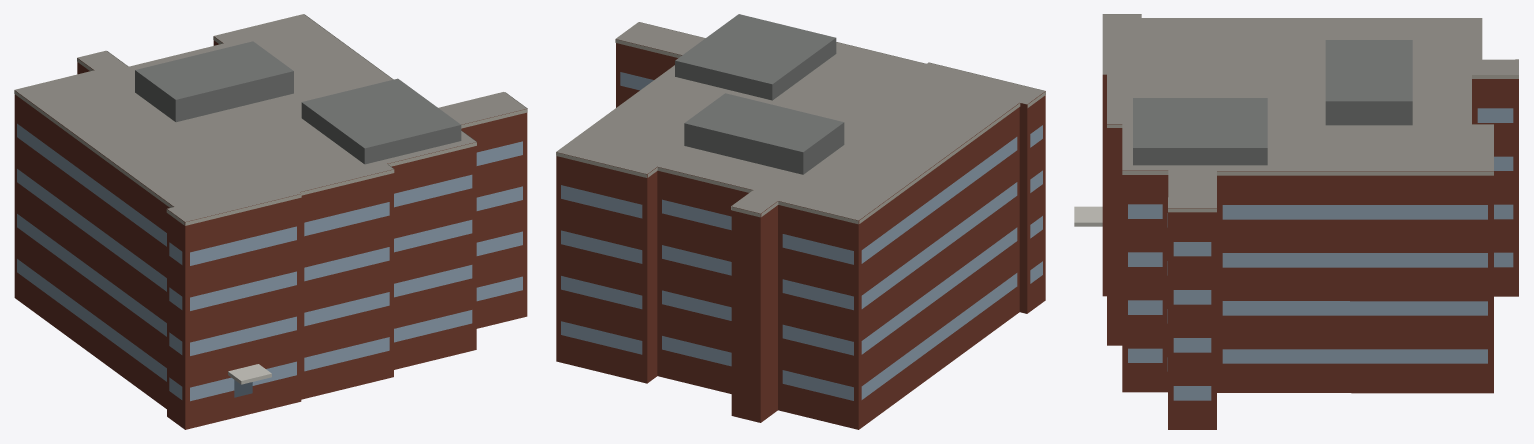
Rendered from ualr-fribourgh-hall.glb.
3 renders of one model, left to right at view 1: azimuth 30°, elevation 25°; view 2: azimuth 150°, elevation 25°; view 3: azimuth 270°, elevation 25°, orthographic. The views are drawn at different scales.
Parts seen in each view (by area): view 1: ualr_fribourgh_hall; view 2: ualr_fribourgh_hall; view 3: ualr_fribourgh_hall.
Boxes of the visible parts, <box> form: ualr_fribourgh_hall: <box>14,14,527,429</box>; ualr_fribourgh_hall: <box>556,14,1045,429</box>; ualr_fribourgh_hall: <box>1074,14,1518,429</box>.
Bounding box in the file's own units: 48.61 × 28.63 × 47.04.
